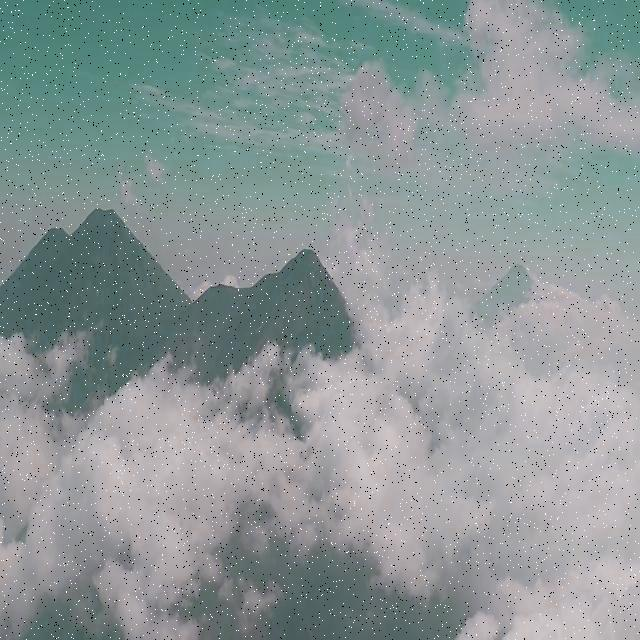Summit: (252, 238, 340, 290)
